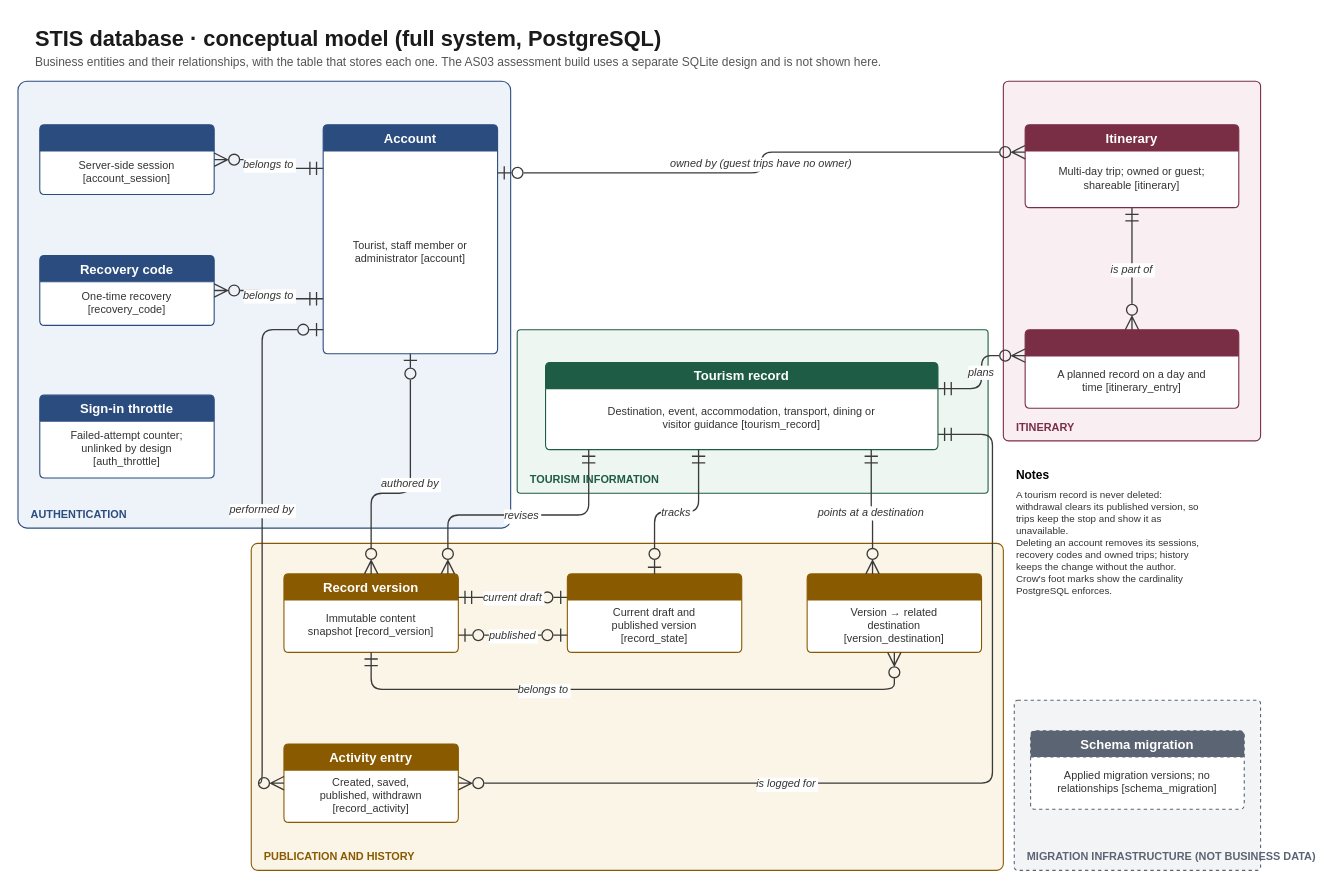
Some shapes in this 1333 by 888 pixel diagram are drawn without their labels. Each missing label, with the box of its shape:
Destination link: (806, 573, 982, 652)
Itinerary stop: (1024, 329, 1239, 408)
Publication state: (566, 573, 742, 652)
Sign-in session: (39, 124, 214, 195)
